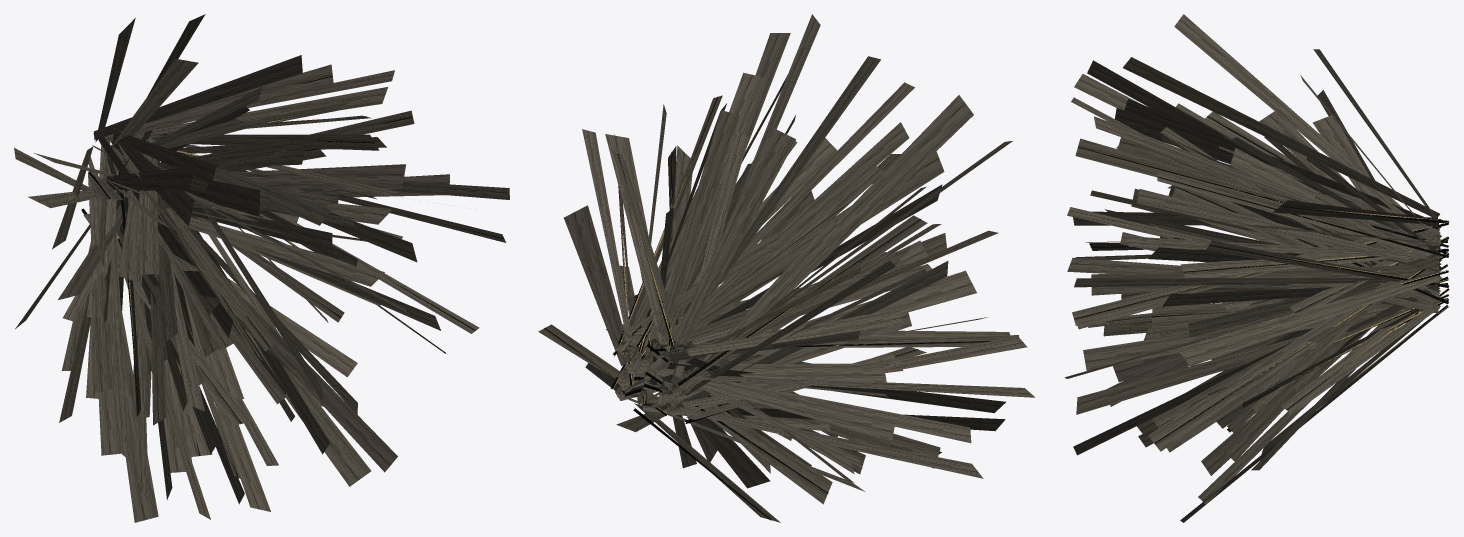
The model's file is PZ_ALP_06_Dry_Tussock_Grass_Gold.glb.
The picture shows the model from 3 angles, left to right: view 1: azimuth 30°, elevation 25°; view 2: azimuth 150°, elevation 25°; view 3: azimuth 270°, elevation 25°; orthographic projection. The views are drawn at different scales.
Parts seen in each view (by area): view 1: DryGrassBlades_AlphaMasked, SeedHeadStems_Detail; view 2: DryGrassBlades_AlphaMasked, SeedHeadStems_Detail; view 3: DryGrassBlades_AlphaMasked, SeedHeadStems_Detail.
Part boxes in pixels (<box>): DryGrassBlades_AlphaMasked: <box>14,14,509,522</box>; SeedHeadStems_Detail: <box>81,76,504,477</box>; DryGrassBlades_AlphaMasked: <box>538,14,1035,522</box>; SeedHeadStems_Detail: <box>544,82,991,520</box>; DryGrassBlades_AlphaMasked: <box>1065,14,1442,522</box>; SeedHeadStems_Detail: <box>1066,116,1449,451</box>.
Size of the model in its own units: 0.6834 by 0.7198 by 0.582.
Materials: 2 (2 with a texture image).
